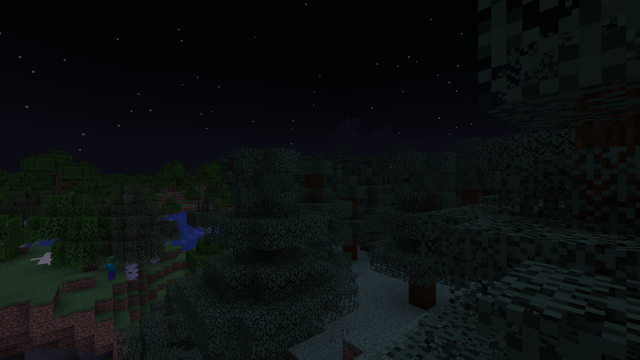zombies: (107, 256, 116, 281)
